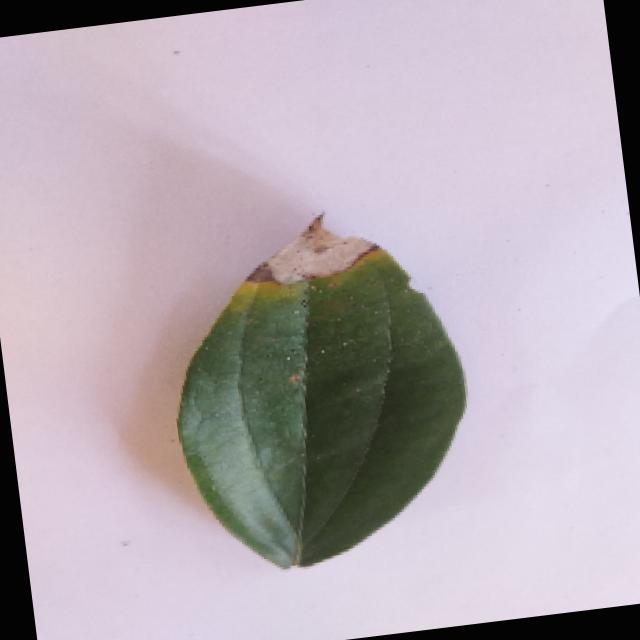footrot: (132, 200, 498, 602)
